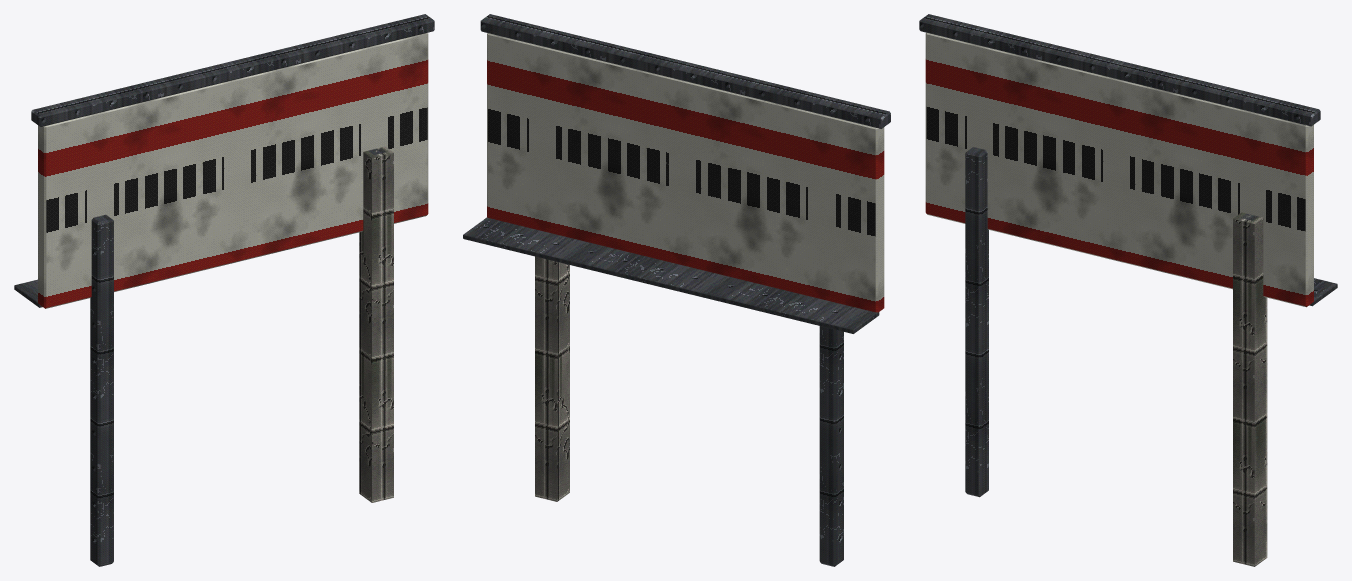
Rendered from prop_billboard.glb.
3 views of the same model, side by side, from view 1: azimuth 30°, elevation 25°; view 2: azimuth 150°, elevation 25°; view 3: azimuth 330°, elevation 25° (orthographic). The views are drawn at different scales.
Parts seen in each view (by area): view 1: prop_billboard_mesh, prop_billboard_col-colonly.001; view 2: prop_billboard_mesh, prop_billboard_col-colonly.001; view 3: prop_billboard_mesh, prop_billboard_col-colonly.001.
Boxes of the visible parts, x1,y1,x2,y2 form: prop_billboard_mesh: (14,14,434,566); prop_billboard_col-colonly.001: (359,146,393,502); prop_billboard_mesh: (463,14,890,566); prop_billboard_col-colonly.001: (535,256,569,501); prop_billboard_mesh: (919,14,1337,497); prop_billboard_col-colonly.001: (1233,212,1267,566).
Size of what is drawn, in the model's own units: 7.2 by 8 by 1.25.
Materials: 3 (3 with a texture image).
